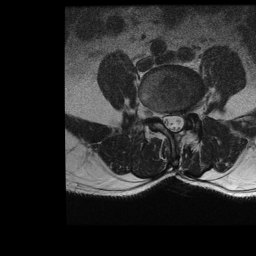CCS_normal: (169, 105, 177, 136)
LFS_stenosis: (184, 99, 191, 120)
LLS_normal: (177, 104, 184, 135)
RFS_stenosis: (154, 102, 162, 125)
RLS_normal: (162, 105, 169, 132)
